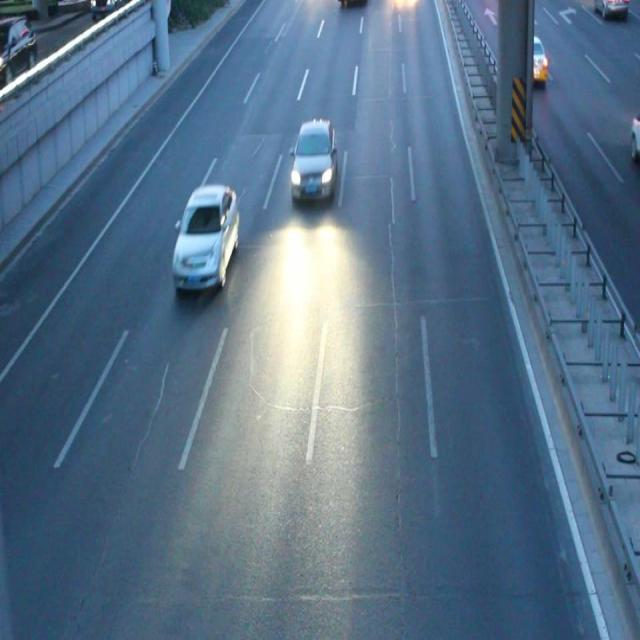car: (175, 185, 237, 295), (292, 121, 334, 199), (516, 34, 546, 86), (630, 109, 640, 160)
van: (338, 1, 364, 6)
